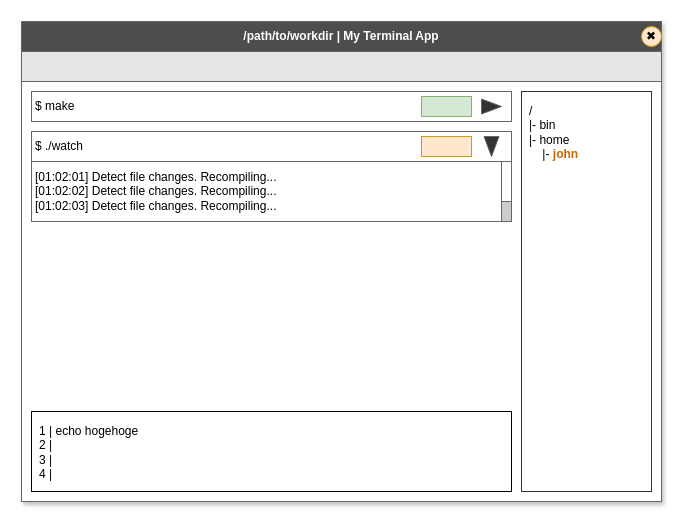
The diagram is 685 pixels wide and 526 high, and some of its shapes have lost their labels. Here are the shapes that lost their labels. From the top down, the centre of each, then its label:
point 341,66: ファイル (F)
point 446,106: Exit 0
point 446,146: Running
